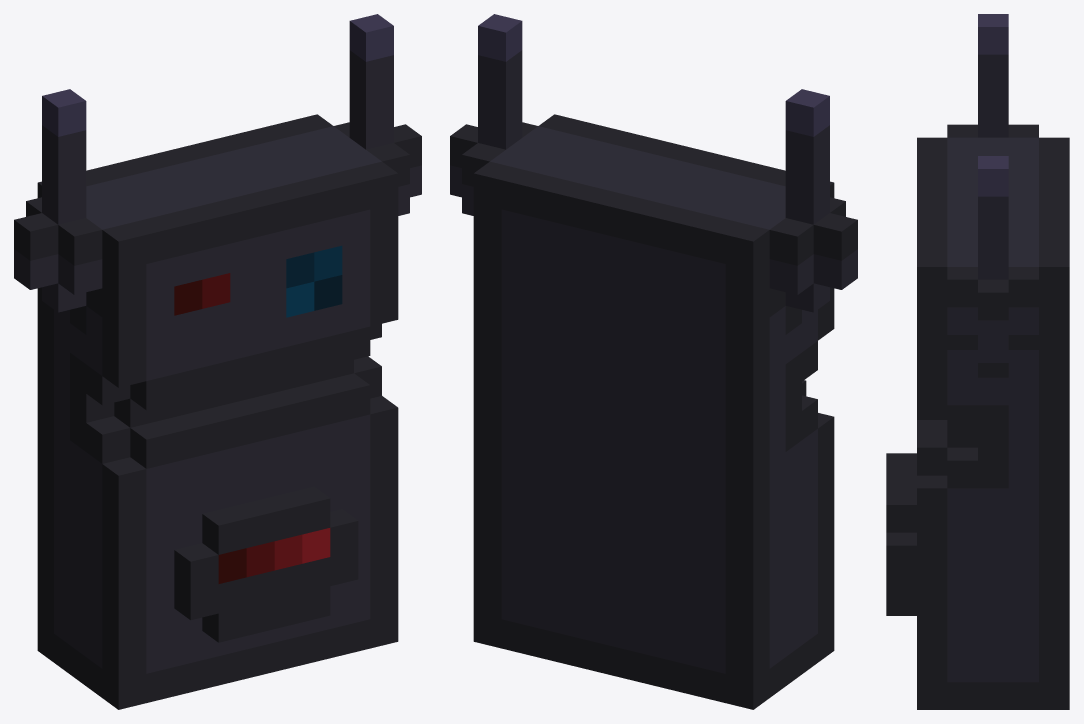
The model's file is Radist-5.obj.
The picture shows the model from 3 angles, left to right: view 1: azimuth 30°, elevation 25°; view 2: azimuth 150°, elevation 25°; view 3: azimuth 270°, elevation 25°; orthographic projection. The views are drawn at different scales.
Bounding box in the file's own units: 1.4 × 2 × 0.6.
Materials: 1 (1 with a texture image).
